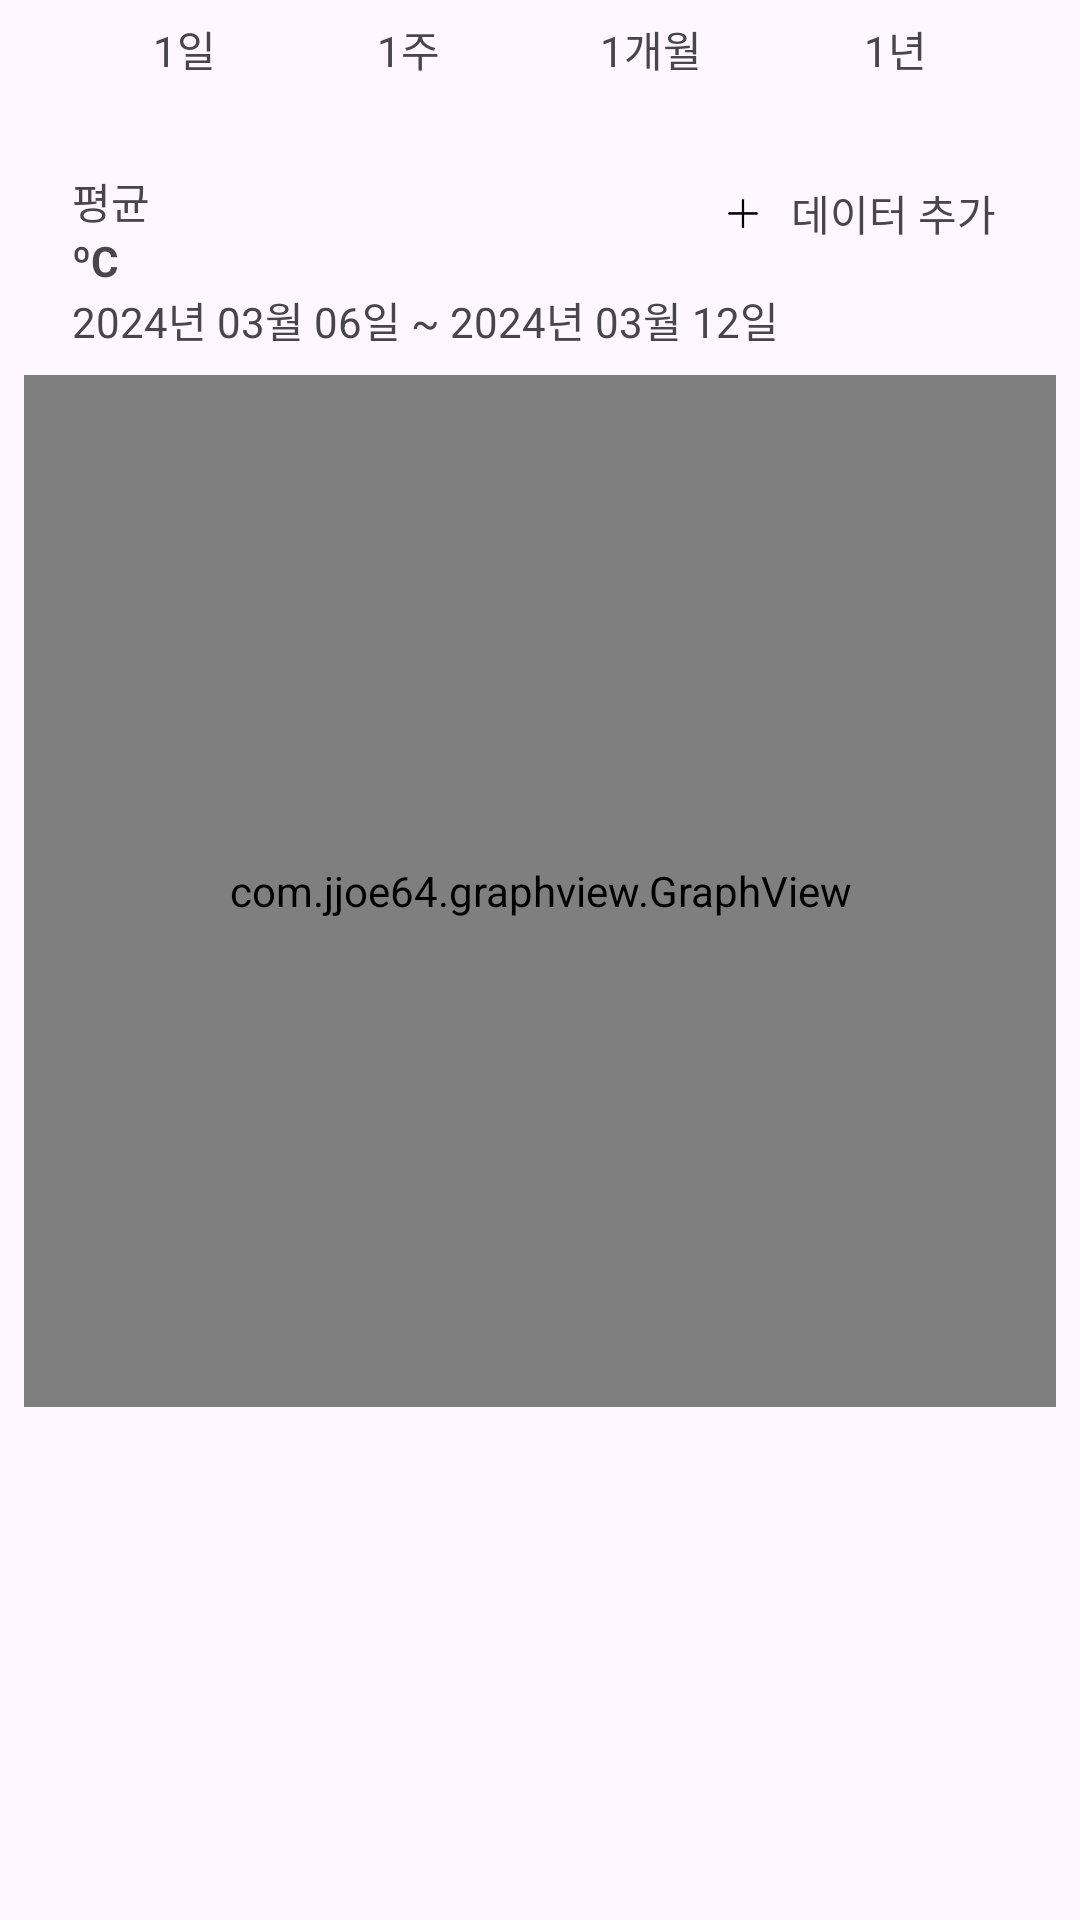

Icons on this 1080 × 1920 Android screen, each with the point to tap as (x=x, y=y):
dosage add: (x=743, y=213)
